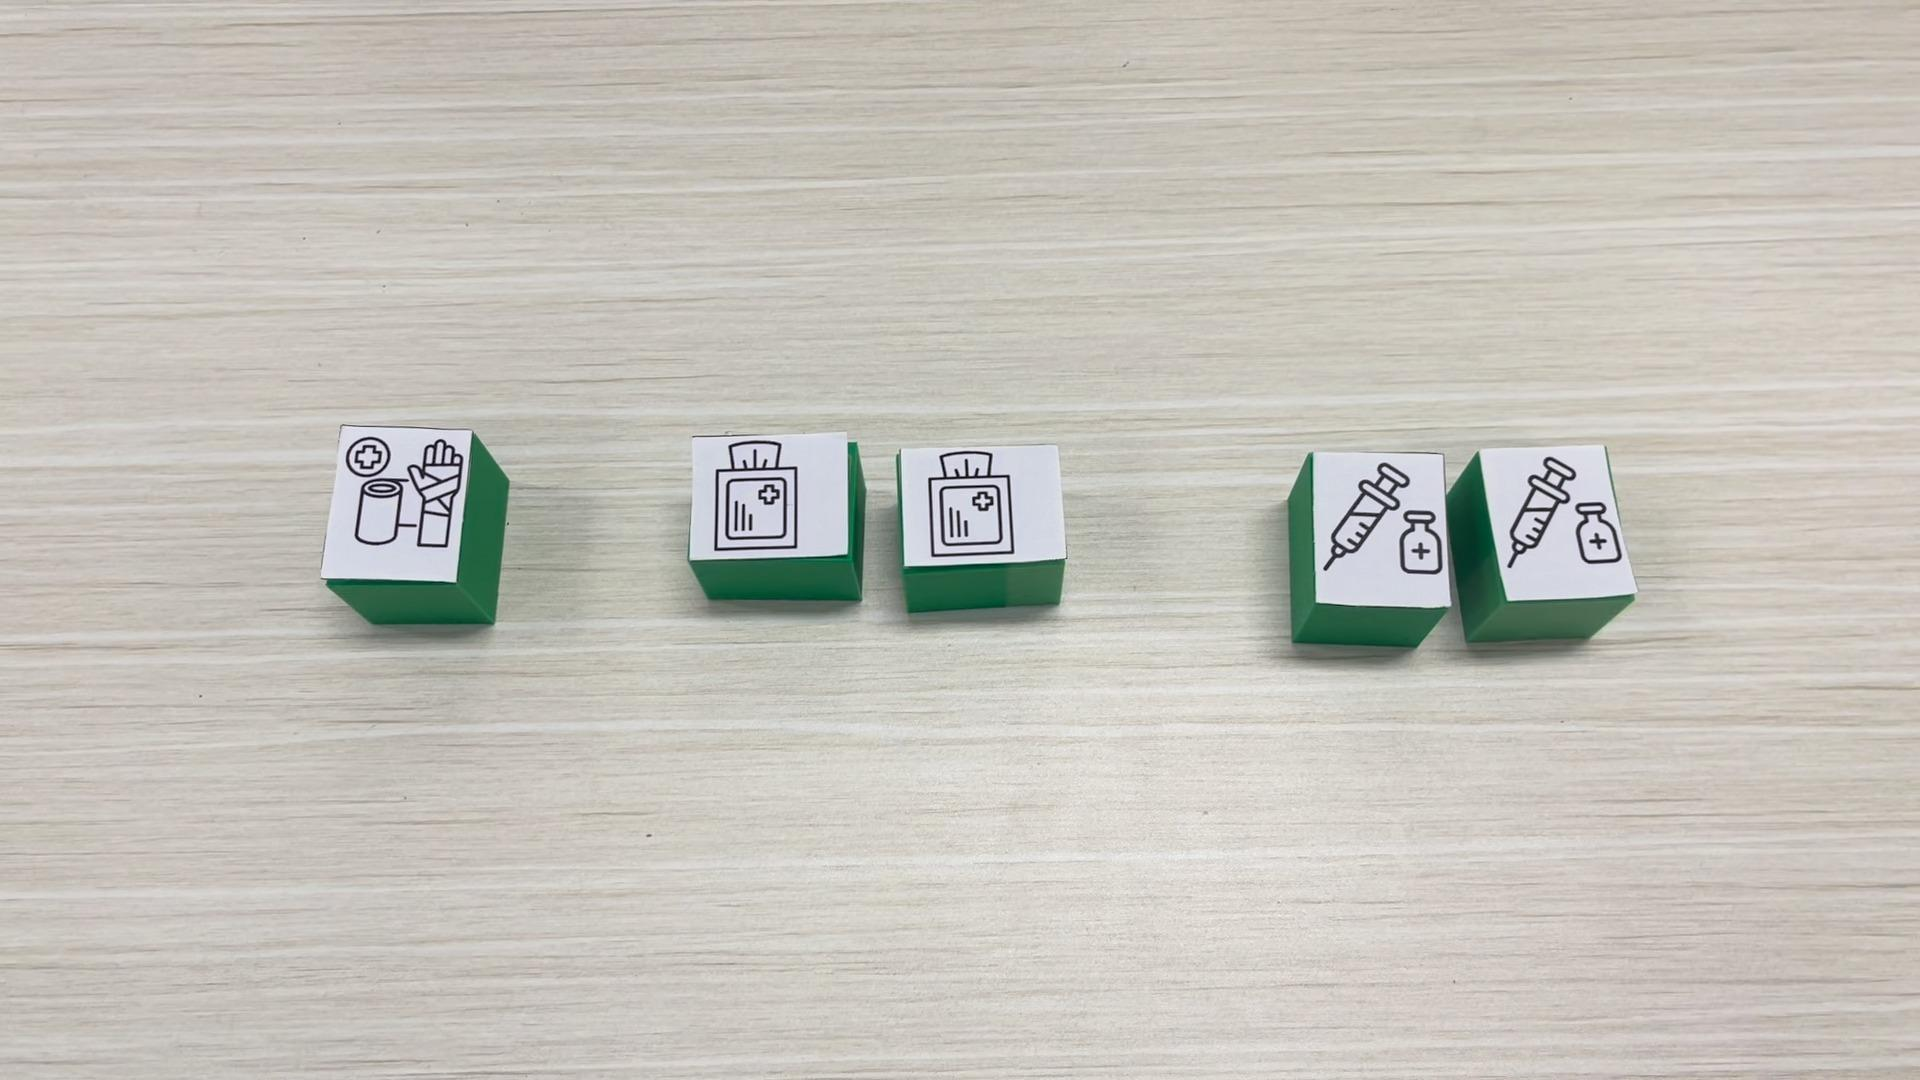Bandages: (328, 422, 509, 630)
Gauze: (688, 430, 868, 604), (899, 438, 1067, 611)
antiseptic cream: (1444, 440, 1638, 645), (1287, 447, 1452, 655)
